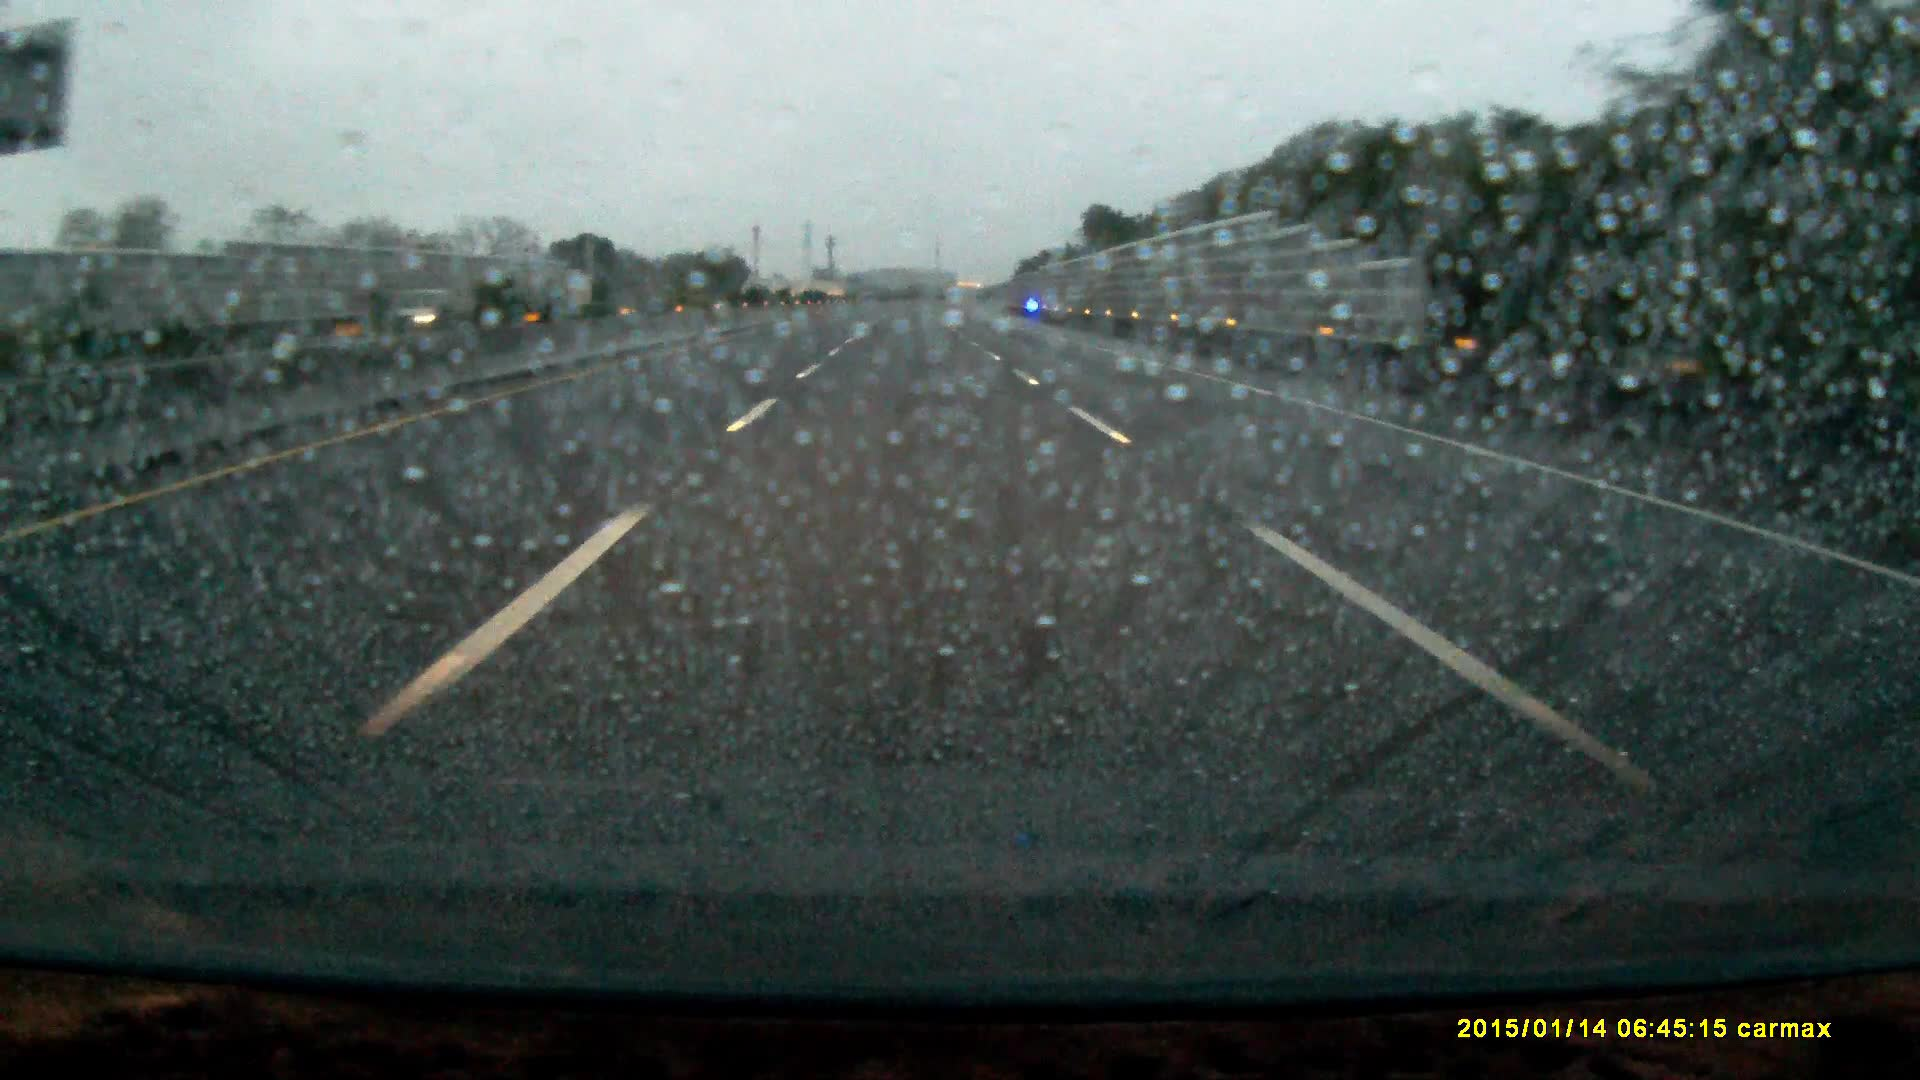vehicle: (372, 287, 455, 328)
